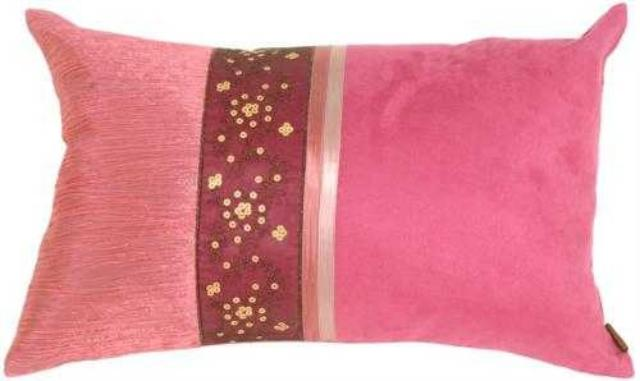pillow: (2, 2, 634, 378)
